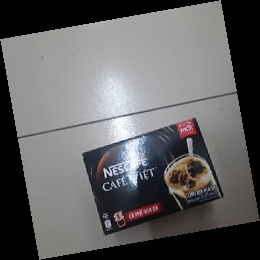CF Viet: (82, 118, 225, 236)
